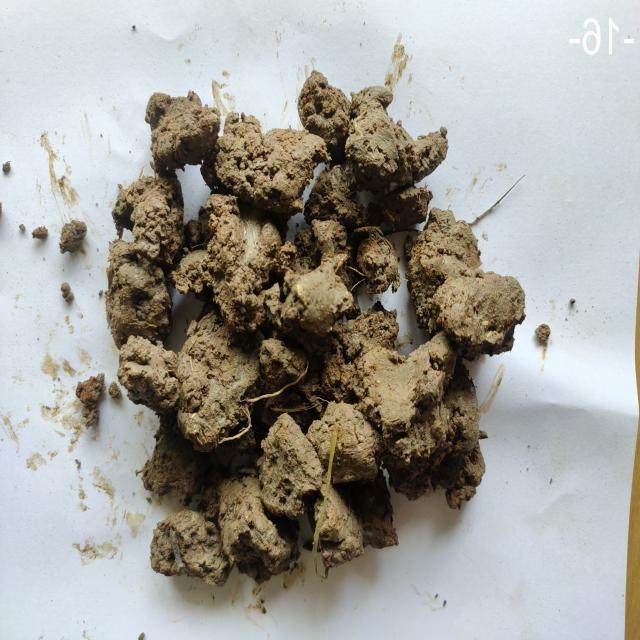soil: (200, 150, 377, 498)
